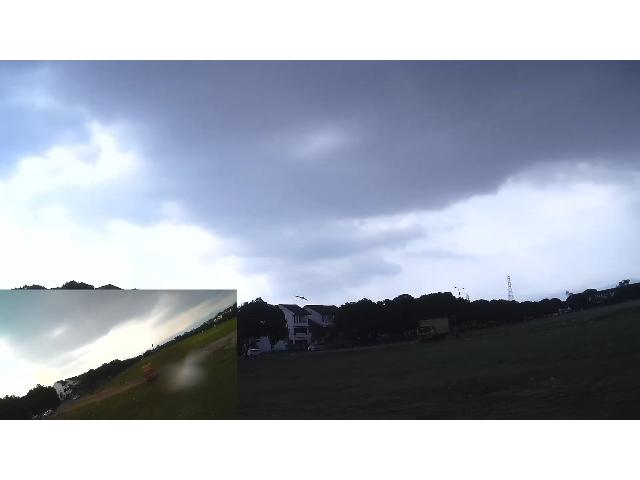Anti-Drone: (290, 292, 310, 304)
